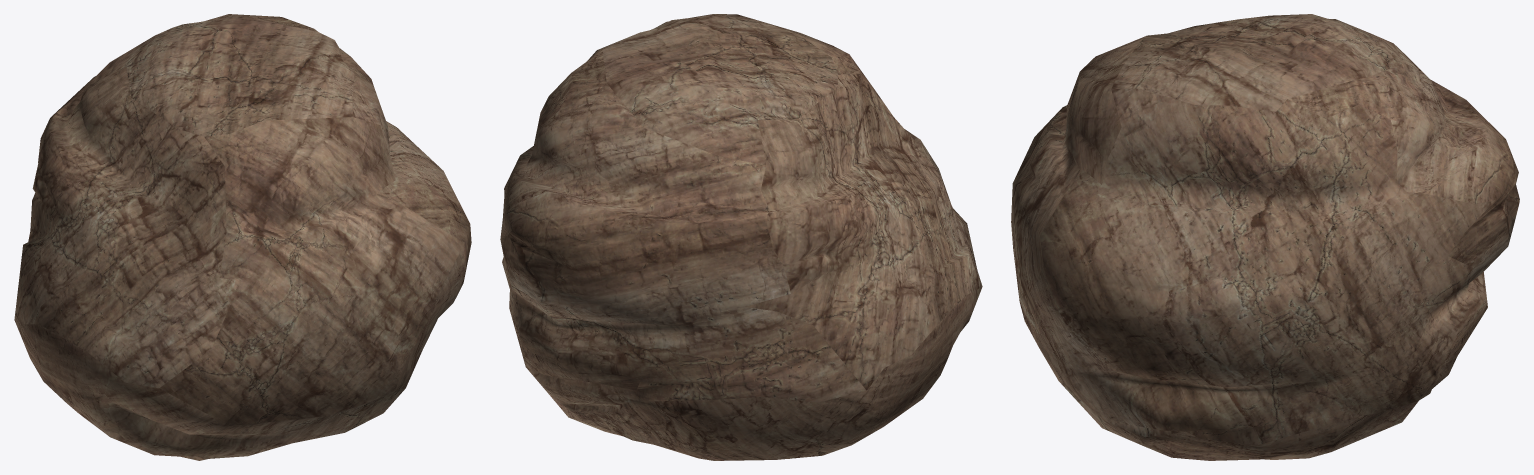
Rendered from rock_small08_projected.dae.
The picture shows the model from 3 angles, left to right: view 1: azimuth 30°, elevation 25°; view 2: azimuth 150°, elevation 25°; view 3: azimuth 270°, elevation 25°; orthographic projection. The views are drawn at different scales.
Visible parts, largest first — view 1: Mesh; view 2: Mesh; view 3: Mesh.
Part boxes in pixels (<box>): Mesh: <box>14,14,471,460</box>; Mesh: <box>500,14,982,460</box>; Mesh: <box>1011,14,1519,460</box>.
Size of the model in its own units: 1.18 by 1.06 by 1.23.
